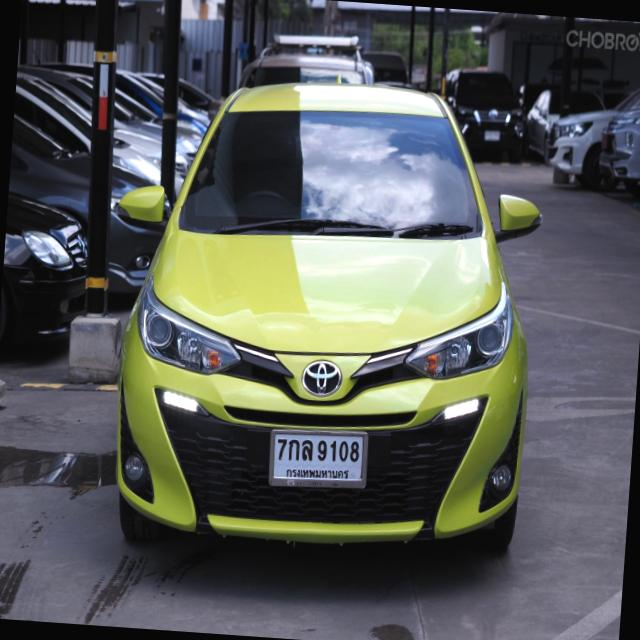license_plate: (265, 422, 372, 492)
